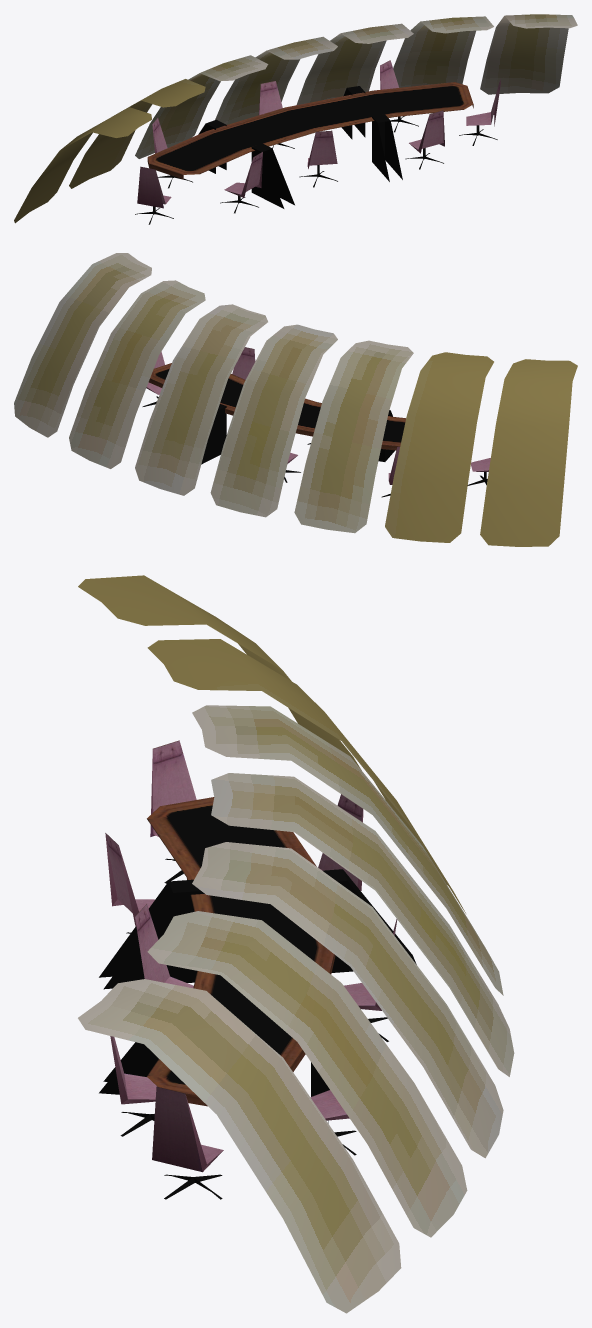
The model's file is conferenceRoom.obj.
3 renders of one model, top to bottom at view 1: azimuth 30°, elevation 25°; view 2: azimuth 150°, elevation 25°; view 3: azimuth 270°, elevation 25°, orthographic. The views are drawn at different scales.
Visible parts, largest first — view 1: Enterprise_D_Low_5, Enterprise_D_Low_4.001; view 2: Enterprise_D_Low_5, Enterprise_D_Low_4.001; view 3: Enterprise_D_Low_5, Enterprise_D_Low_4.001.
Part boxes in pixels (bbox=[...]): Enterprise_D_Low_5: bbox=[14, 14, 577, 223]; Enterprise_D_Low_4.001: bbox=[135, 60, 500, 224]; Enterprise_D_Low_5: bbox=[14, 253, 577, 546]; Enterprise_D_Low_4.001: bbox=[142, 347, 490, 497]; Enterprise_D_Low_5: bbox=[78, 575, 514, 1313]; Enterprise_D_Low_4.001: bbox=[99, 740, 416, 1199].
Size of the model in its own units: 1.44 by 0.3224 by 0.4988.
Materials: 2 (2 with a texture image).
